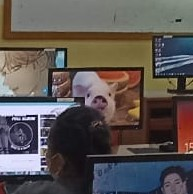monitor: (0, 97, 85, 187), (47, 67, 145, 133), (84, 153, 193, 193), (152, 35, 193, 80)
